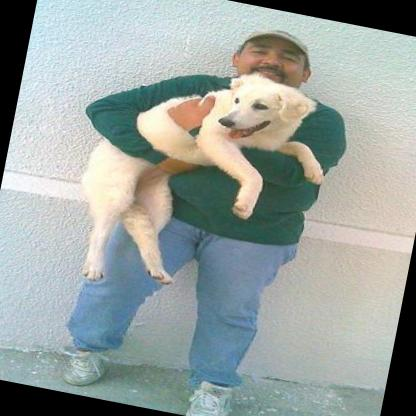kuvasz: (55, 41, 346, 324)
